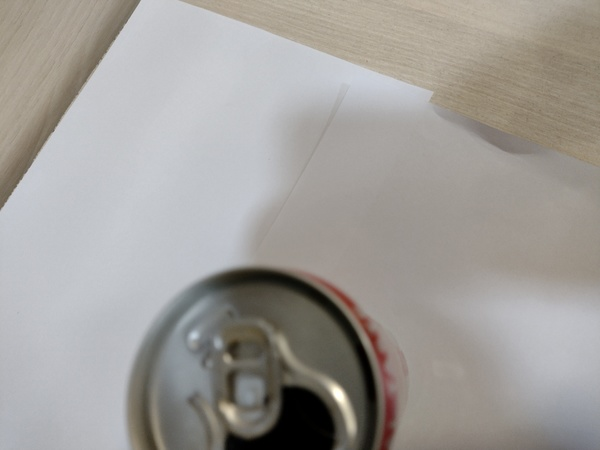can: (125, 262, 393, 450)
